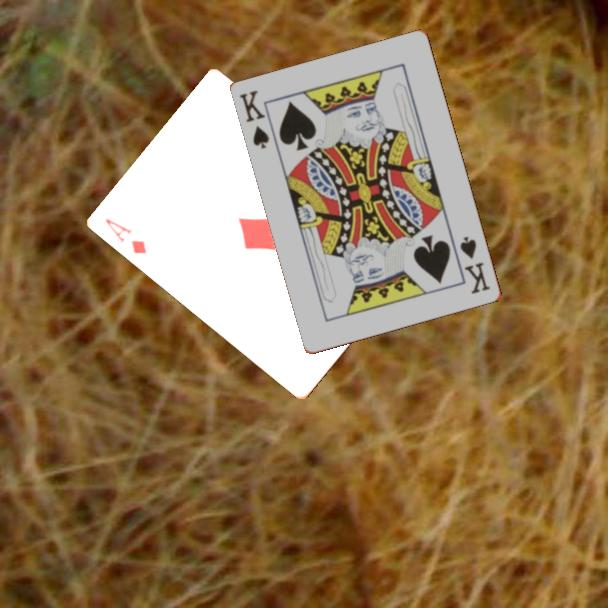d01: (102, 215, 150, 257)
s13: (236, 87, 273, 152), (457, 233, 493, 297)
